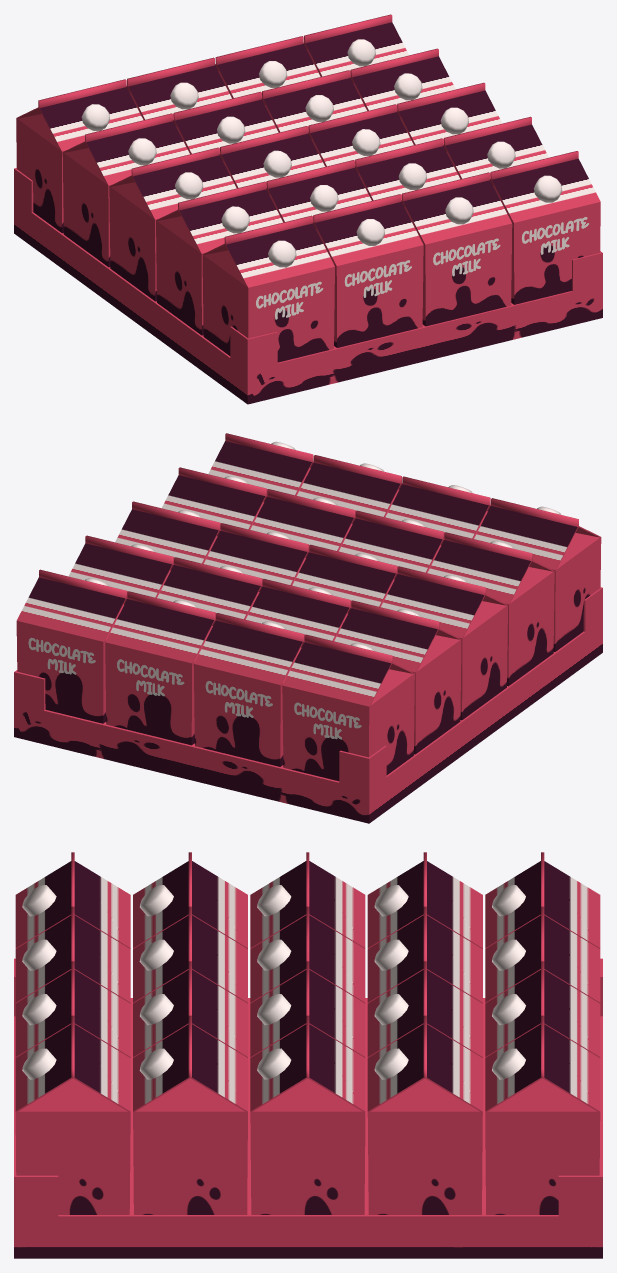
File: Milk_Small_Chocolate_x20.fbx
3 renders of one model, top to bottom at view 1: azimuth 30°, elevation 25°; view 2: azimuth 150°, elevation 25°; view 3: azimuth 270°, elevation 25°, orthographic. The views are drawn at different scales.
Visible parts, largest first — view 1: juice_big3; view 2: juice_big3; view 3: juice_big3.
Boxes of the visible parts, <box> form: juice_big3: <box>14,14,602,404</box>; juice_big3: <box>14,433,602,823</box>; juice_big3: <box>14,852,602,1258</box>.
Size of the model in its own units: 42.38 by 17.08 by 48.3.
Materials: 1 (1 with a texture image).
